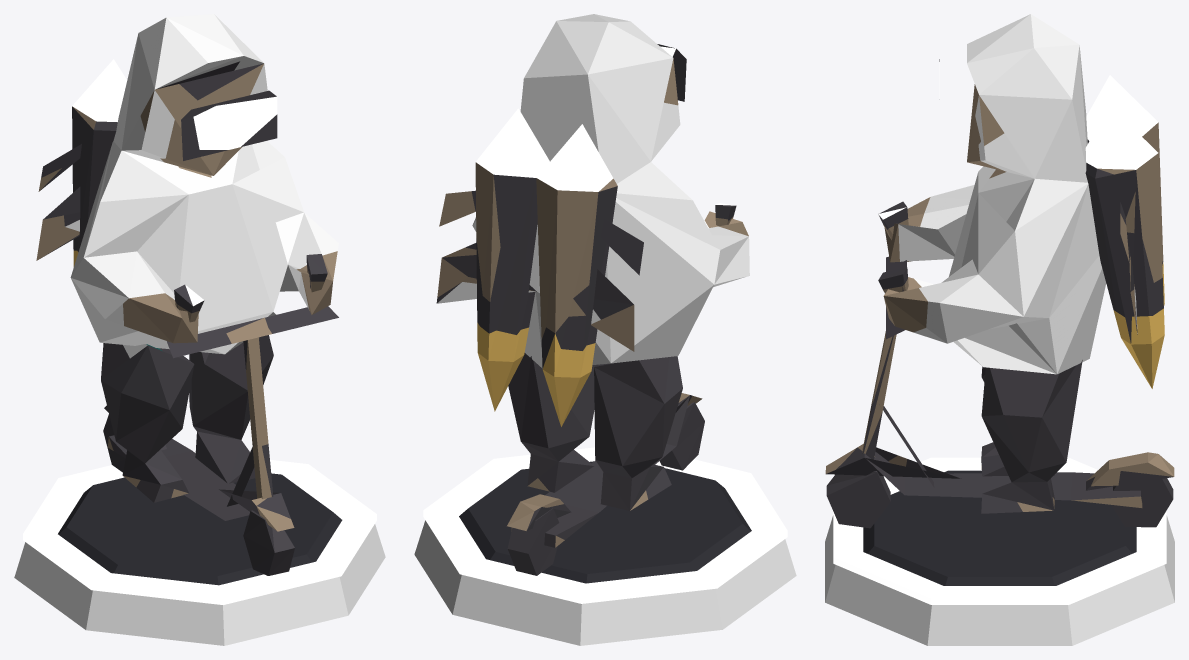
File: startuppers.glb
3 renders of one model, left to right at view 1: azimuth 30°, elevation 25°; view 2: azimuth 150°, elevation 25°; view 3: azimuth 270°, elevation 25°, orthographic. The views are drawn at different scales.
Parts seen in each view (by area): view 1: pedina_startupper; view 2: pedina_startupper; view 3: pedina_startupper.
Part boxes in pixels (bbox=[...]): pedina_startupper: bbox=[14, 14, 385, 645]; pedina_startupper: bbox=[414, 14, 796, 645]; pedina_startupper: bbox=[825, 14, 1174, 645].
Bounding box in the file's own units: 0.5913 × 1.02 × 0.5913.
